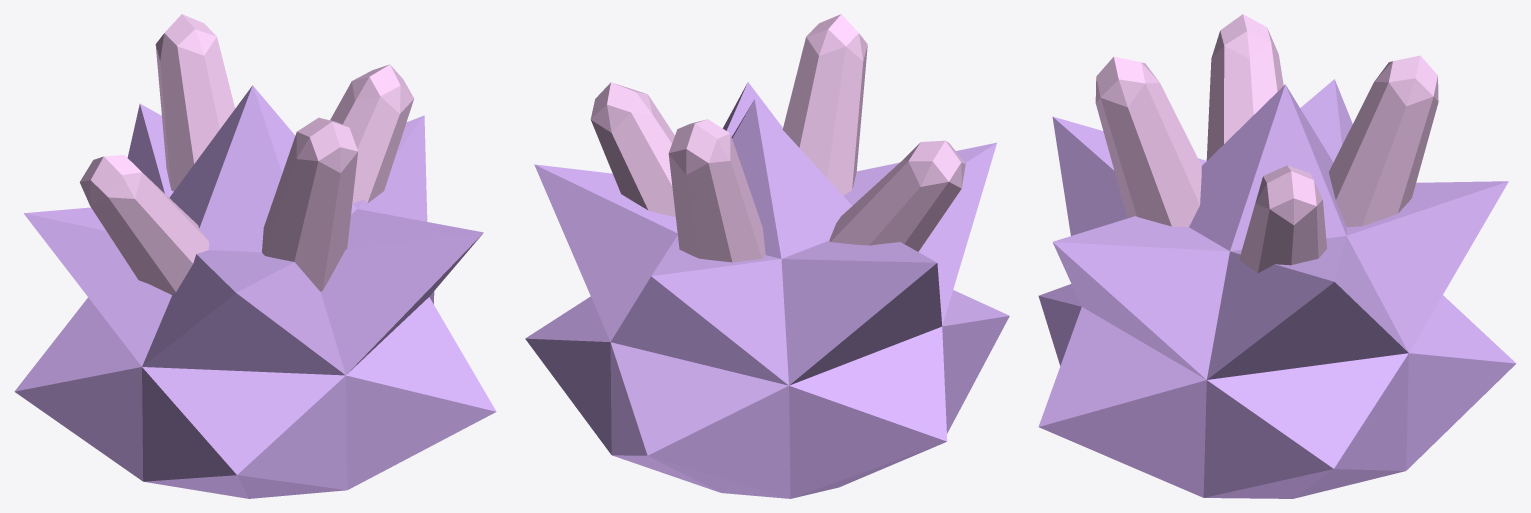
Rendered from Urchin.fbx.
The picture shows the model from 3 angles, left to right: view 1: azimuth 30°, elevation 25°; view 2: azimuth 150°, elevation 25°; view 3: azimuth 270°, elevation 25°; orthographic projection. The views are drawn at different scales.
Visible parts, largest first — view 1: Urchin; view 2: Urchin; view 3: Urchin.
Boxes of the visible parts, box(x1,y1,x2,y2) form: Urchin: box(14, 14, 496, 498); Urchin: box(525, 14, 1009, 498); Urchin: box(1038, 14, 1516, 498).
Bounding box in the file's own units: 3.57 × 3.15 × 3.39.
